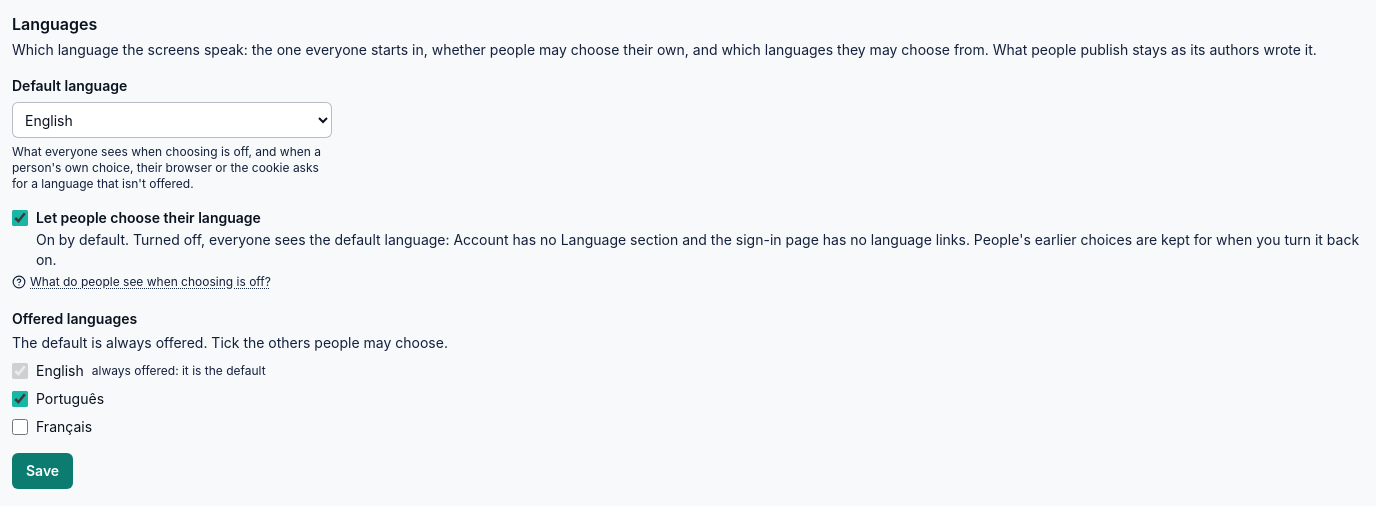
Test: the Languages form (141) › moves the lock to a new default, and ticks it
Step 1. Select "Français" in the dropdown with id "language-default" → {"x": 172, "y": 120}, box [12,102,332,138]
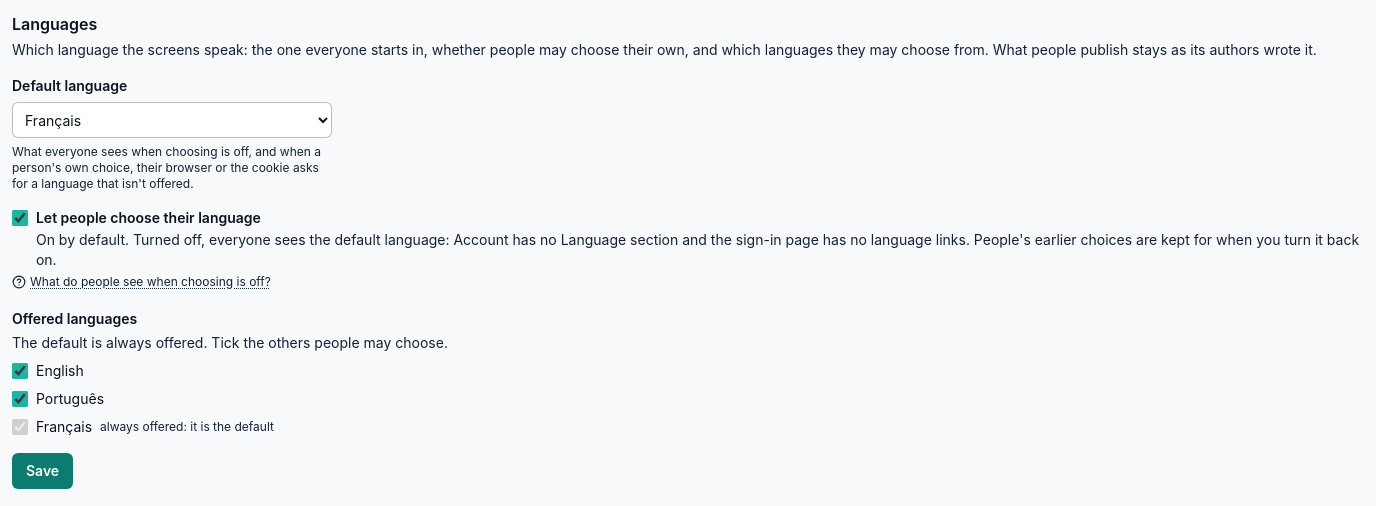
Now the checkbox labelled "Français always offered: it is the default" is disabled, box [12,419,28,435]
Now the checkbox labelled "Français always offered: it is the default" is checked, box [12,419,28,435]
Now the checkbox labelled "English" is enabled, box [12,363,28,379]
